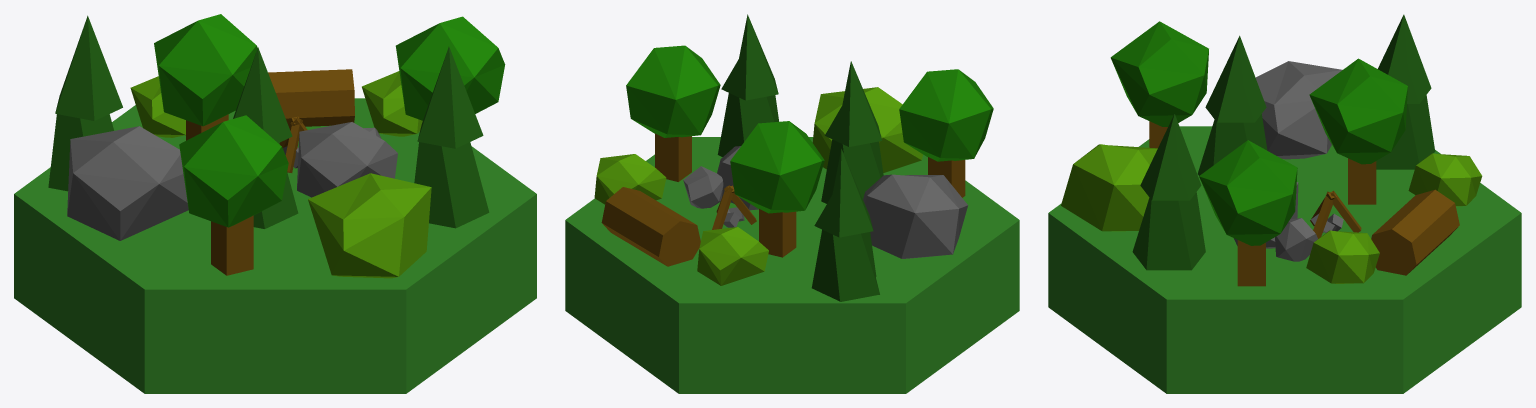
The model's file is Wood3Final.fbx.
3 renders of one model, left to right at view 1: azimuth 30°, elevation 25°; view 2: azimuth 150°, elevation 25°; view 3: azimuth 270°, elevation 25°, orthographic. The views are drawn at different scales.
Parts seen in each view (by area): view 1: Cylinder; view 2: Cylinder; view 3: Cylinder.
Boxes of the visible parts, box(x1,y1,x2,y2) form: Cylinder: box(14, 14, 536, 393); Cylinder: box(565, 14, 1019, 393); Cylinder: box(1048, 14, 1521, 393).
Bounding box in the file's own units: 1.77 × 1.18 × 2.
